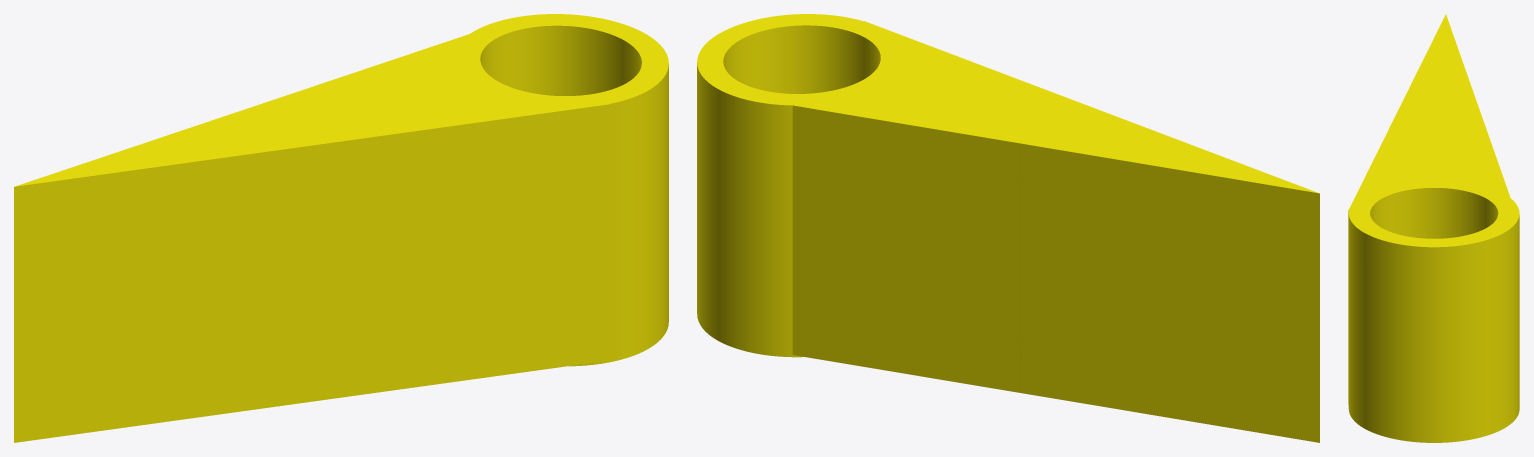
Rendered from fliper.fbx.
The picture shows the model from 3 angles, left to right: view 1: azimuth 30°, elevation 25°; view 2: azimuth 150°, elevation 25°; view 3: azimuth 270°, elevation 25°; orthographic projection. The views are drawn at different scales.
Visible parts, largest first — view 1: root (×2); view 2: root (×2); view 3: root (×2).
Part boxes in pixels (box(x1,y1,x2,y2)): root (×2): box(14, 14, 668, 442); root (×2): box(697, 14, 1319, 442); root (×2): box(1348, 14, 1519, 442).
Bounding box in the file's own units: 0.1995 × 0.078 × 0.0619.
Materials: 2 (2 with a texture image).
